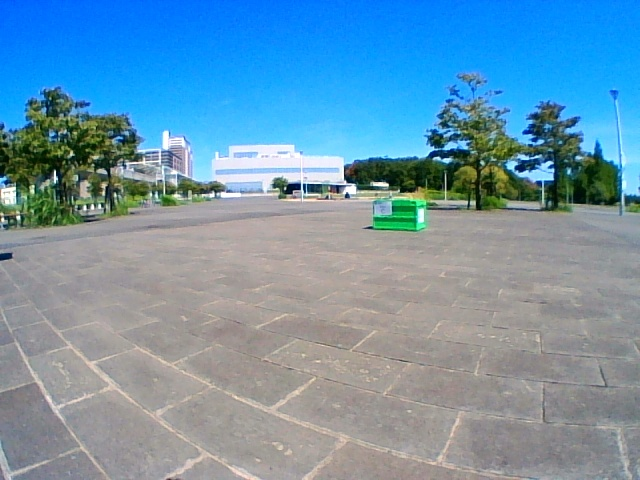green_box: (373, 198, 424, 231)
tag: (373, 202, 391, 216)
